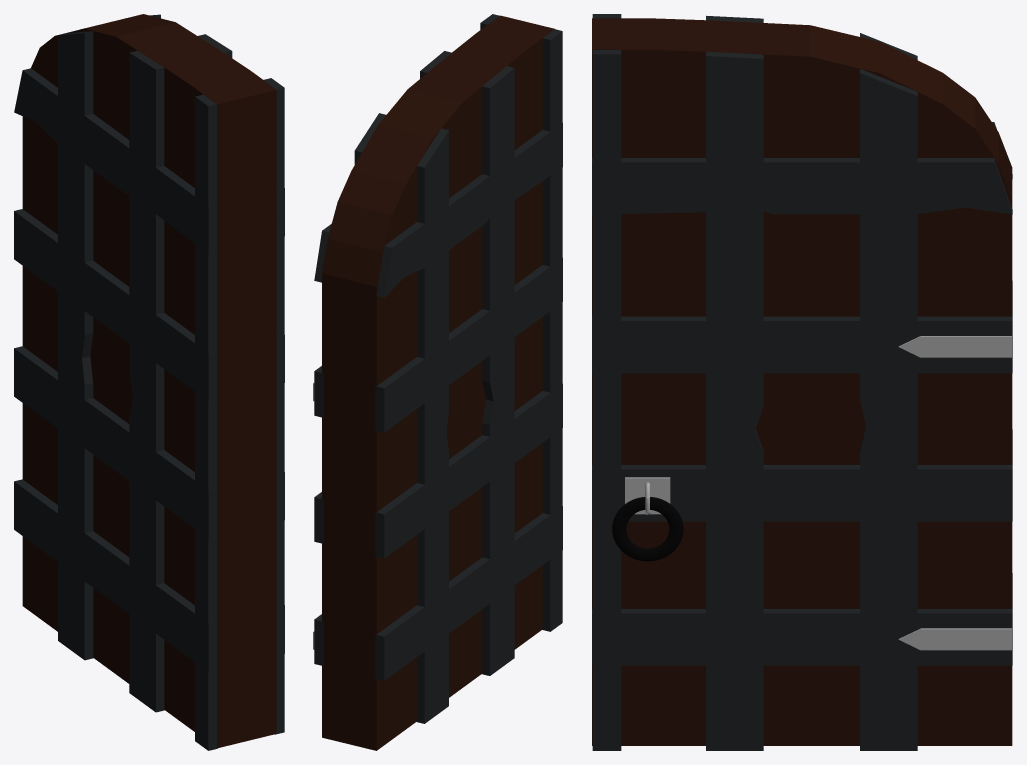
File: Tür.obj
3 renders of one model, left to right at view 1: azimuth 30°, elevation 25°; view 2: azimuth 150°, elevation 25°; view 3: azimuth 270°, elevation 25°, orthographic. The views are drawn at different scales.
Visible parts, largest first — view 1: Cube_Cube.001, Cube.014_Cube.015, Cube.004_Cube.005; view 2: Cube_Cube.001, Cube.014_Cube.015, Cube.004_Cube.005; view 3: Cube.004_Cube.005, Cube_Cube.001, Torus, Cube.009_Cube.010, Cube.010_Cube.011, Cube.008_Cube.009, Cube.014_Cube.015.
Boxes of the visible parts, bbox=[...] form: Cube_Cube.001: bbox=[22, 14, 276, 748]; Cube.014_Cube.015: bbox=[14, 31, 217, 750]; Cube.004_Cube.005: bbox=[149, 14, 284, 734]; Cube_Cube.001: bbox=[322, 15, 554, 750]; Cube.014_Cube.015: bbox=[375, 29, 562, 723]; Cube.004_Cube.005: bbox=[314, 14, 499, 665]; Cube.004_Cube.005: bbox=[592, 50, 1012, 750]; Cube_Cube.001: bbox=[592, 18, 1012, 745]; Torus: bbox=[612, 497, 683, 561]; Cube.009_Cube.010: bbox=[898, 628, 1011, 650]; Cube.010_Cube.011: bbox=[898, 336, 1011, 357]; Cube.008_Cube.009: bbox=[625, 477, 670, 514]; Cube.014_Cube.015: bbox=[592, 14, 1012, 607].
Bounding box in the file's own units: 0.3584 × 2.47 × 1.35.
